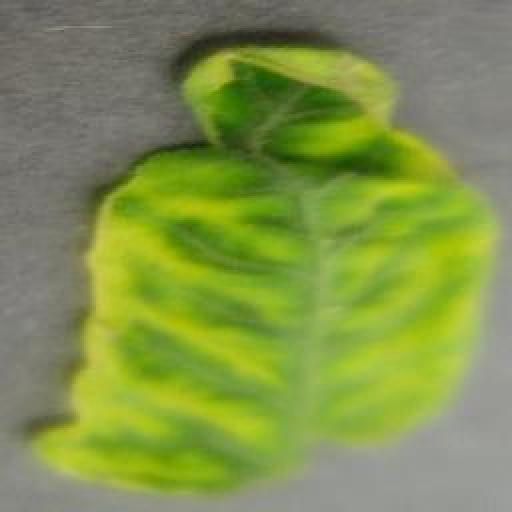disease_tomato: (20, 45, 496, 503)
